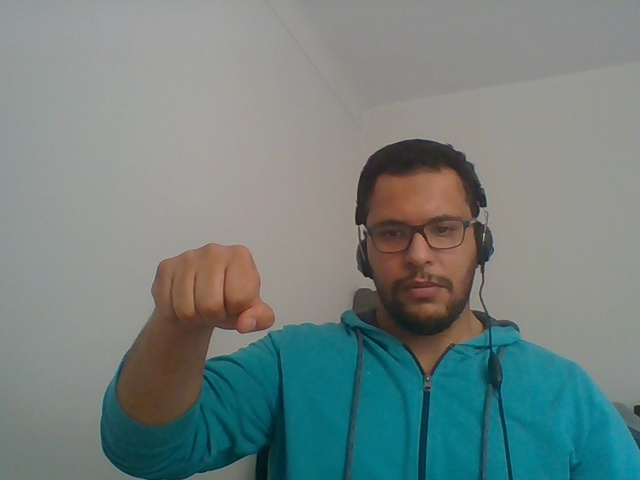yes: (127, 207, 281, 375)
